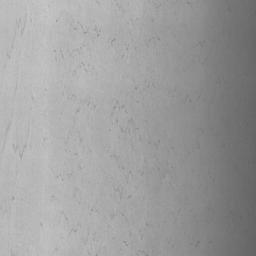Silk spot: (13, 144, 27, 160), (16, 18, 25, 35), (113, 186, 123, 200), (113, 100, 125, 111)
